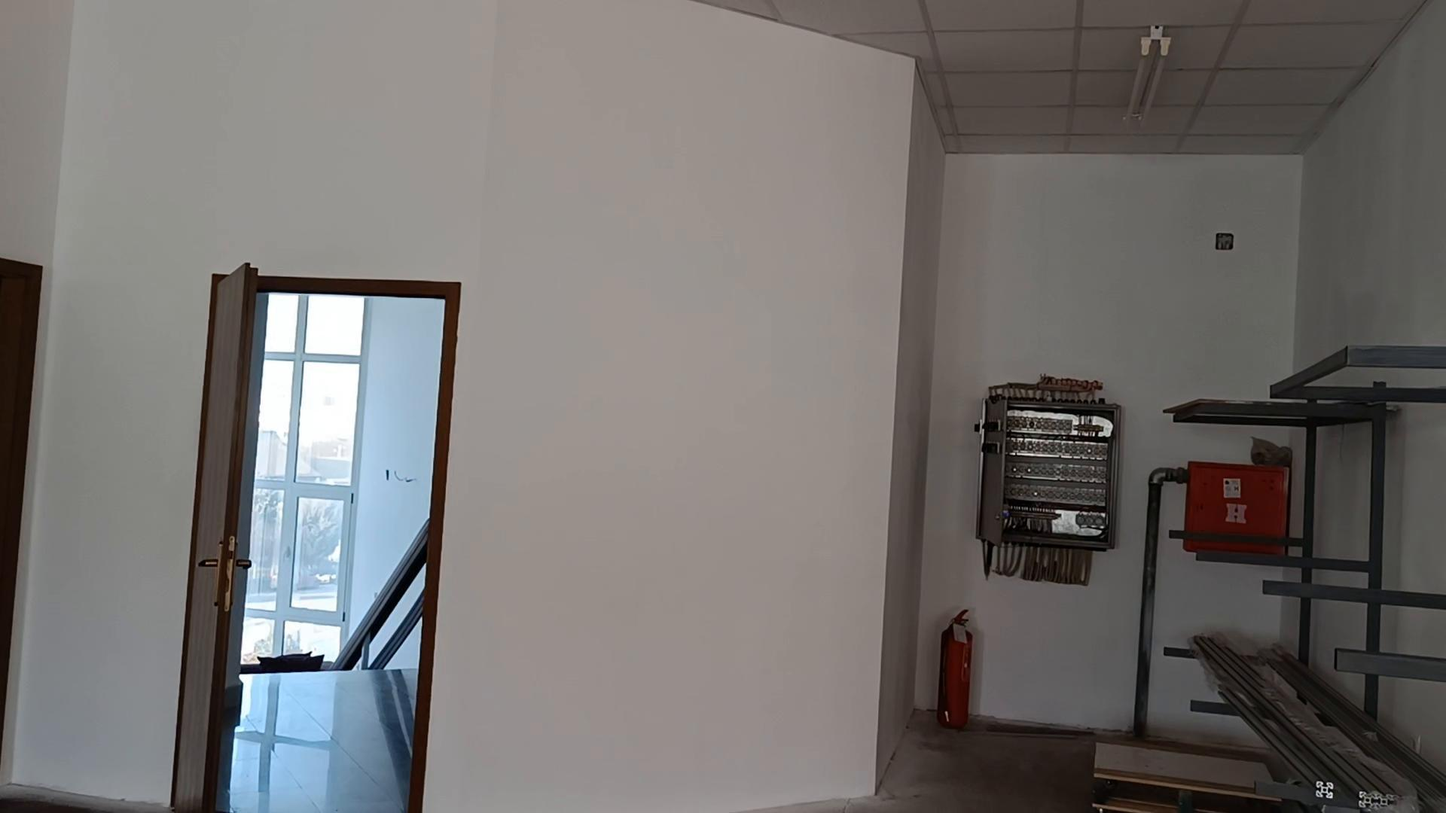ceiling: (698, 0, 1426, 154)
floor: (229, 668, 416, 812)
wall: (0, 0, 934, 812), (919, 0, 1445, 726), (969, 369, 1131, 610)
